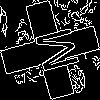M: (25, 25, 80, 77)
